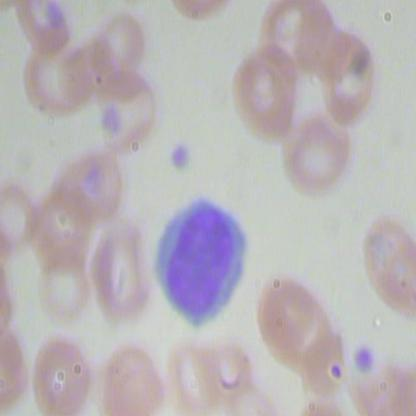Platelets: (167, 140, 195, 175), (352, 341, 378, 377)
WBC: (144, 194, 251, 336)
